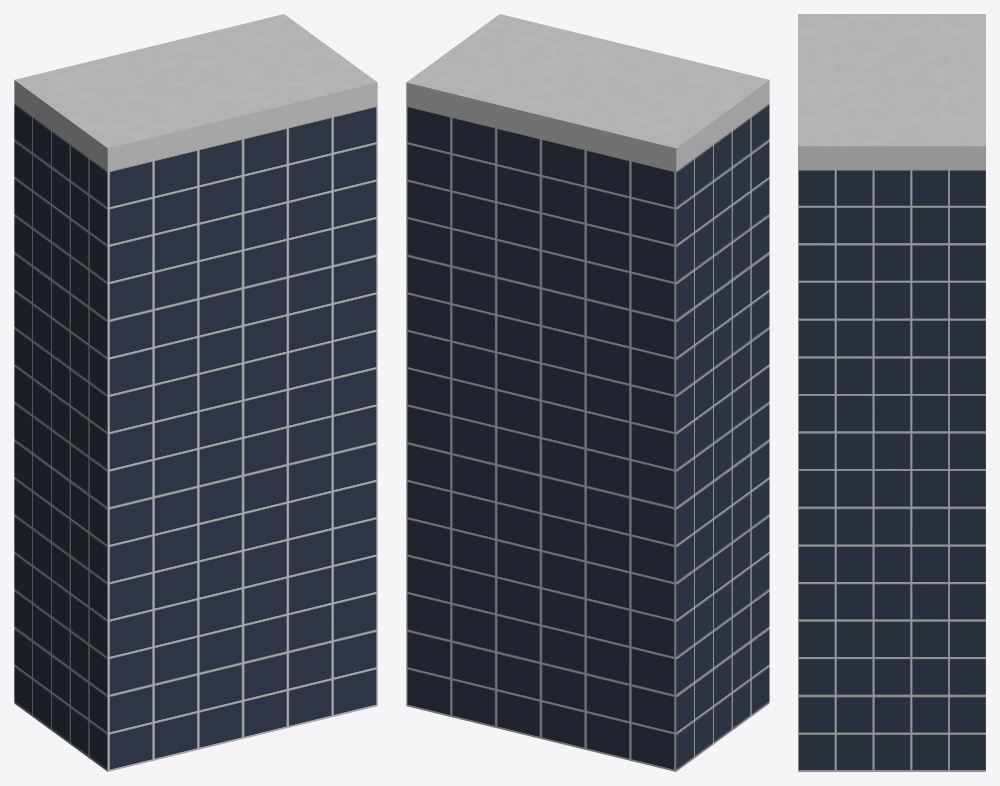
File: Building_S_W5_b_001.fbx
3 renders of one model, left to right at view 1: azimuth 30°, elevation 25°; view 2: azimuth 150°, elevation 25°; view 3: azimuth 270°, elevation 25°, orthographic.
Visible parts, largest first — view 1: Building_S_W5_b_001; view 2: Building_S_W5_b_001; view 3: Building_S_W5_b_001.
Boxes of the visible parts, left/top/right/bottom form: Building_S_W5_b_001: left=14, top=14, right=377, bottom=771; Building_S_W5_b_001: left=406, top=14, right=769, bottom=771; Building_S_W5_b_001: left=798, top=14, right=985, bottom=771.
Size of the model in its own units: 33.21 by 73.3 by 19.94.
